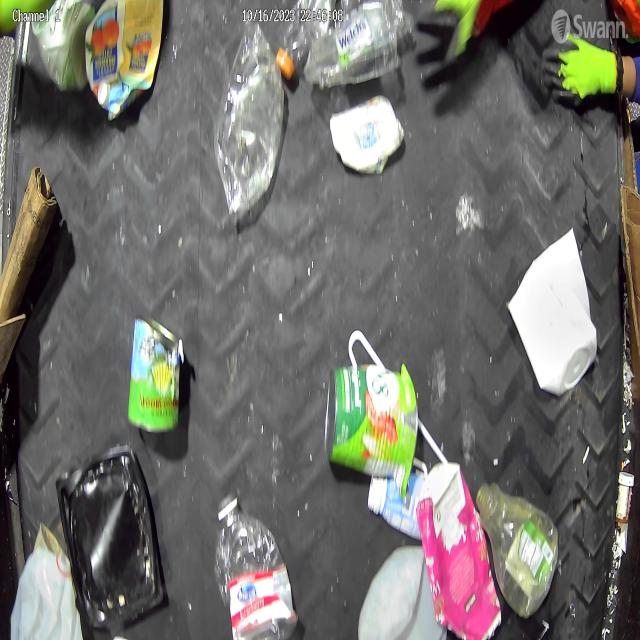can: (323, 362, 419, 480), (128, 313, 181, 433)
milk_jug: (358, 543, 447, 640), (9, 548, 77, 640)
non_white_jug: (416, 461, 503, 640)
plastic_bottle: (214, 491, 299, 640), (476, 483, 560, 620), (276, 0, 335, 79)
